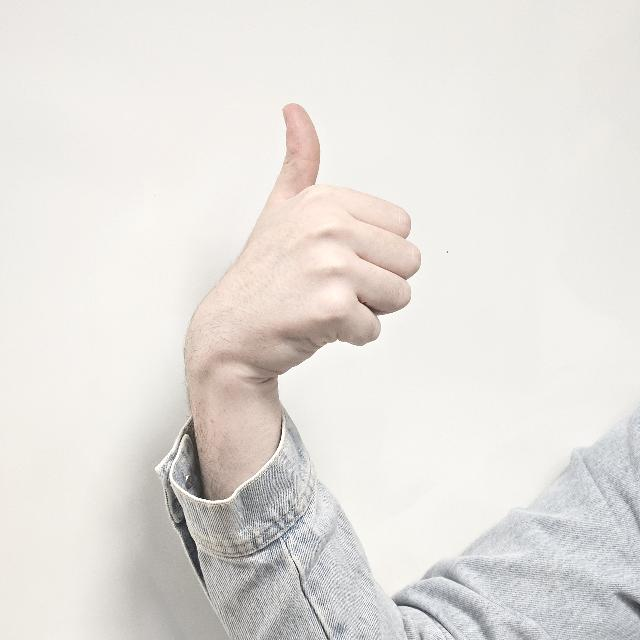Start: (258, 96, 422, 368)
